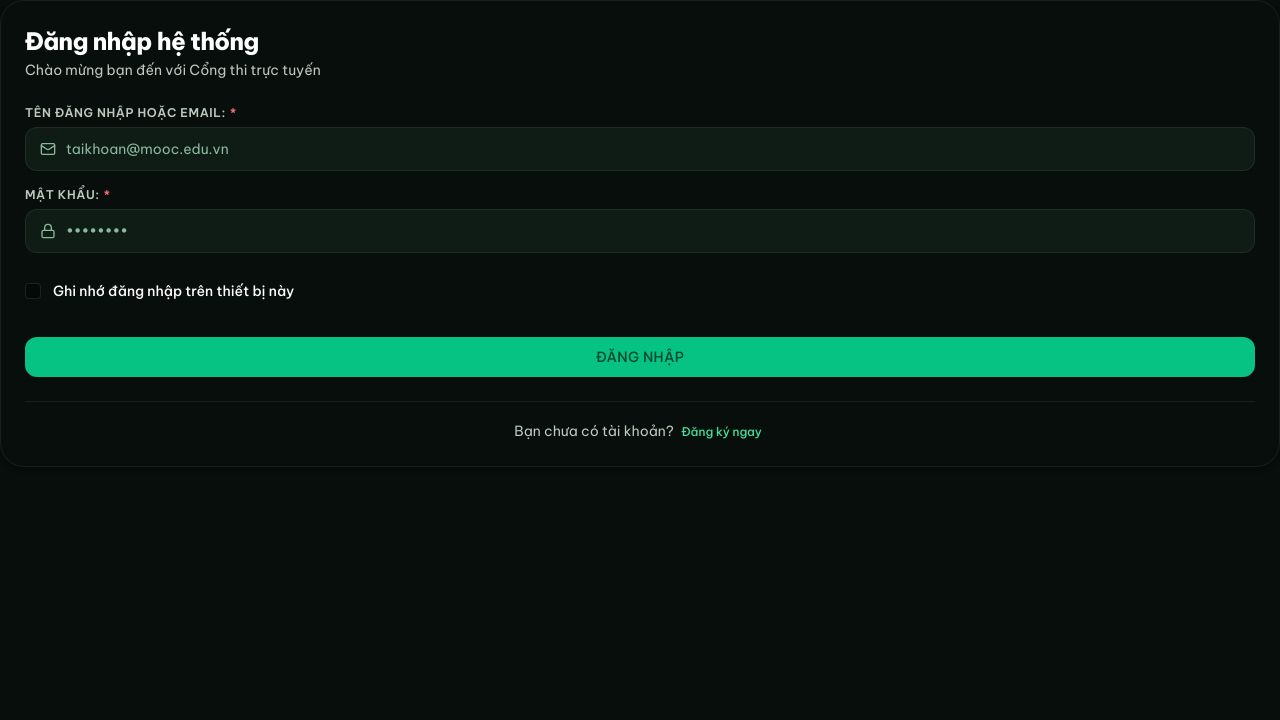
Scenario: LoginPage › shows validation errors when submitting empty fields
Step 1. Click the button "Đăng nhập" → click(640, 357), box [25,337,1255,377]
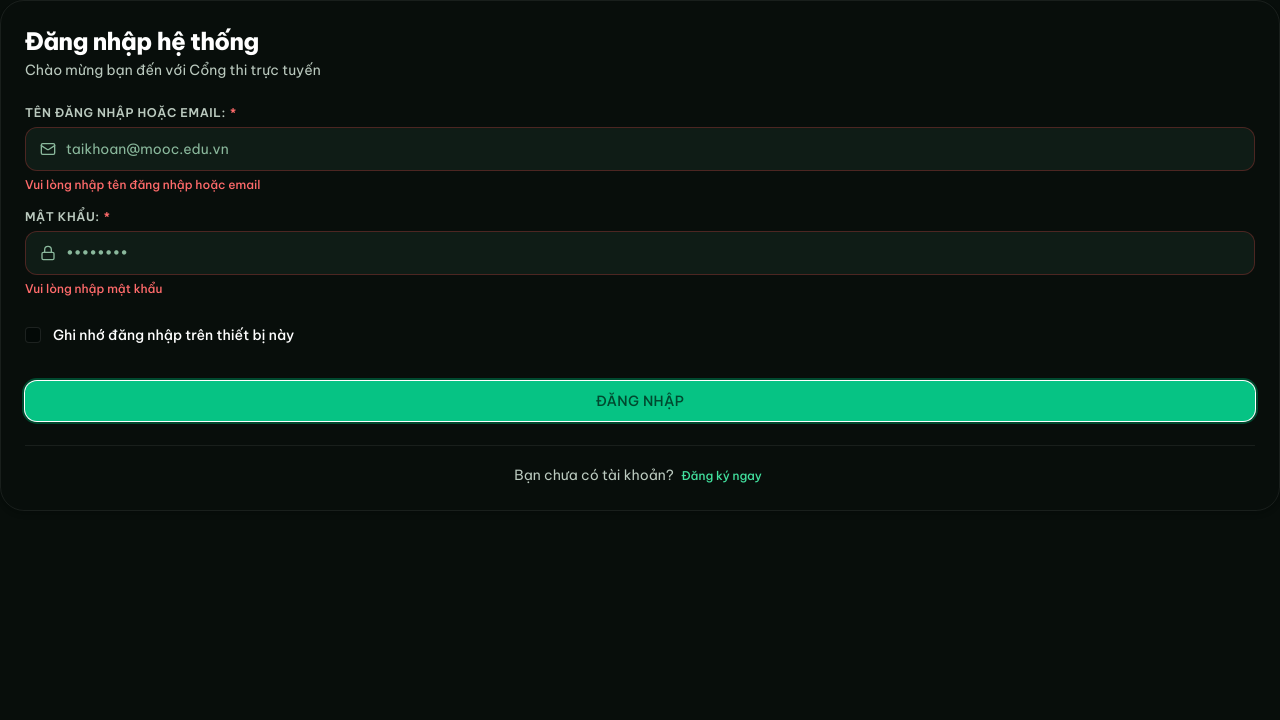
Expected: the text "Vui lòng nhập tên đăng nhập hoặc email" is shown, [25,177,260,192]
Expected: the text "Vui lòng nhập mật khẩu" is shown, [25,281,162,296]
